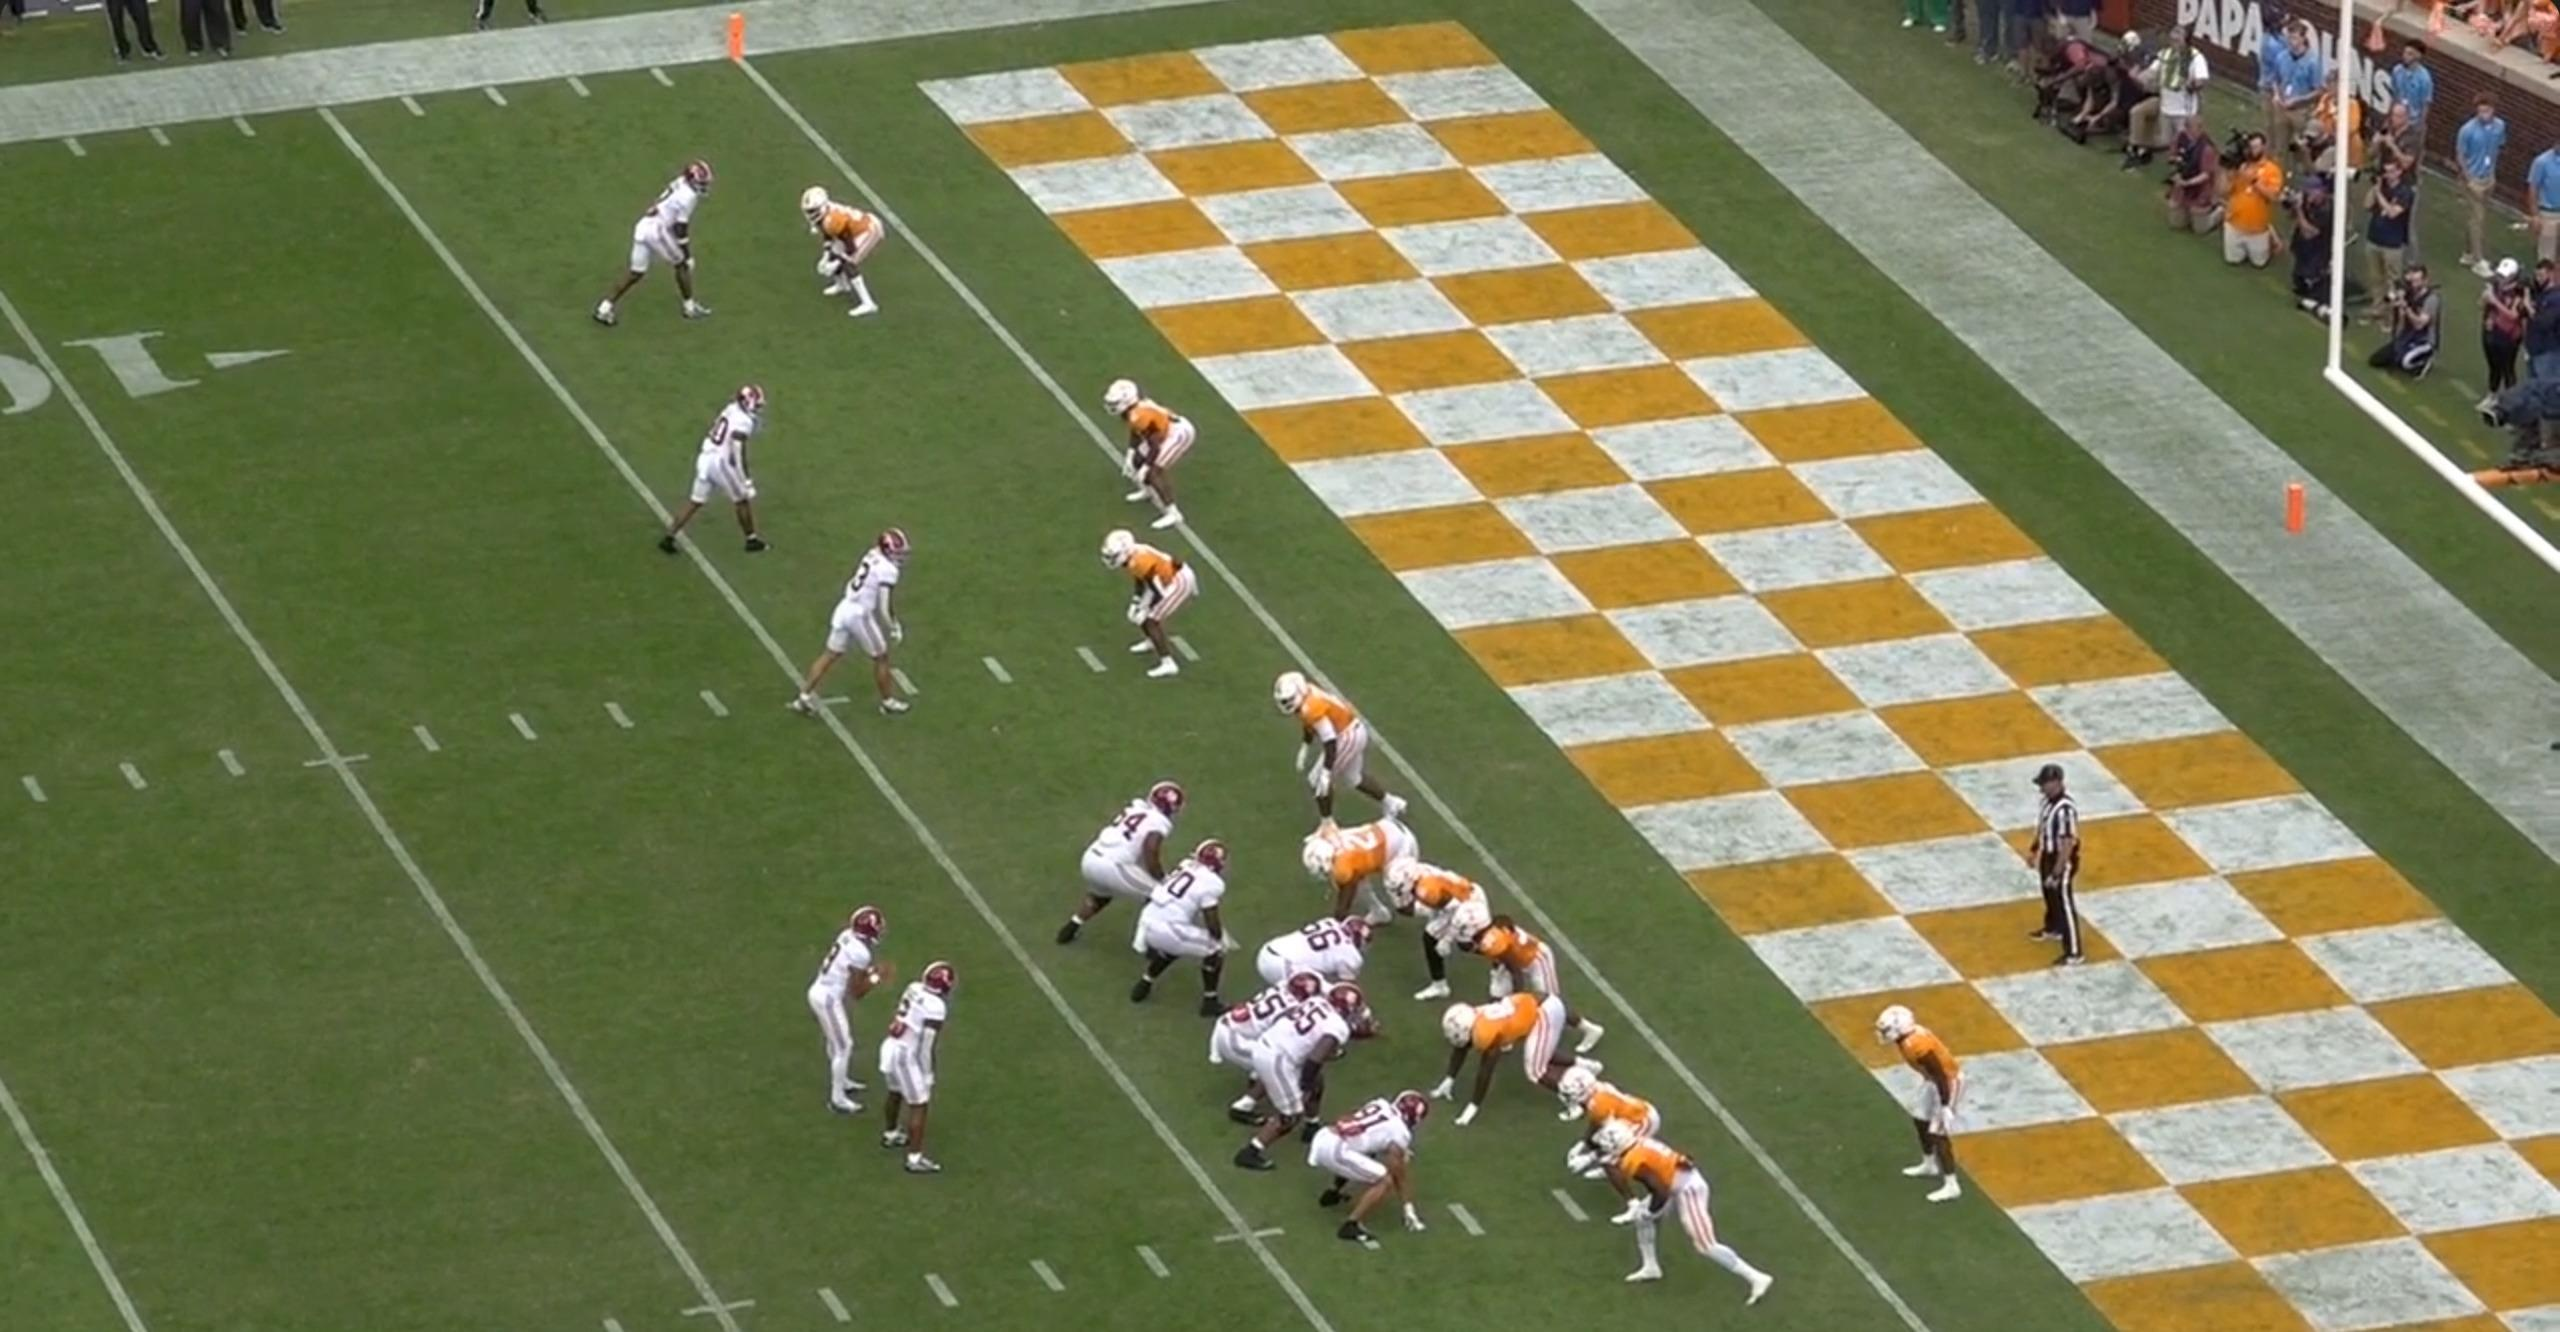defense: (1593, 1120, 1776, 1305), (1429, 997, 1610, 1134), (1454, 905, 1605, 1060), (1278, 669, 1421, 831), (1878, 1000, 1979, 1212), (1094, 526, 1200, 689), (1292, 812, 1424, 943), (1095, 371, 1197, 530), (1397, 853, 1505, 1002), (799, 179, 899, 323), (1566, 1060, 1673, 1180)
oline: (1231, 978, 1387, 1173), (1046, 772, 1194, 956), (1111, 833, 1244, 1019), (1206, 961, 1329, 1120), (1243, 911, 1373, 1036)
qb: (801, 904, 897, 1126)
ref: (2030, 760, 2101, 973)
skill: (779, 521, 918, 721), (594, 151, 728, 332), (655, 381, 784, 567), (872, 949, 974, 1178), (1299, 1087, 1427, 1256)
